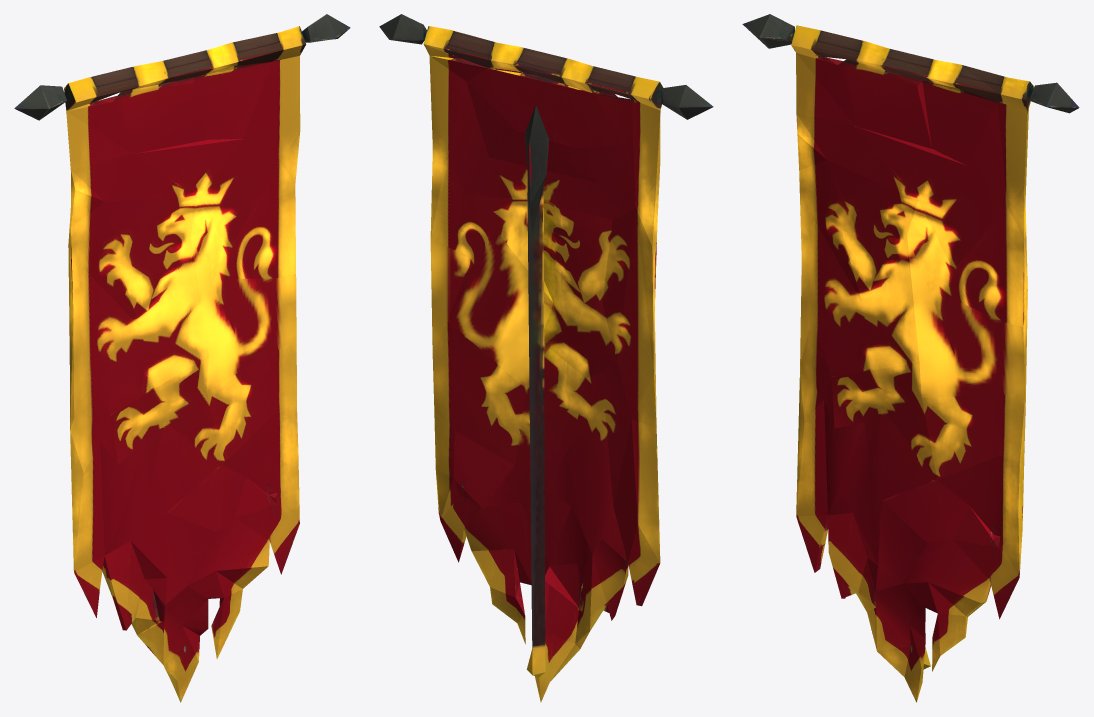
File: Meshy_AI_Tattered_Lion_Banner__1007141229_texture.fbx
3 renders of one model, left to right at view 1: azimuth 30°, elevation 25°; view 2: azimuth 150°, elevation 25°; view 3: azimuth 330°, elevation 25°, orthographic.
Parts seen in each view (by area): view 1: output_unwrapped; view 2: output_unwrapped; view 3: output_unwrapped.
Boxes of the visible parts, bbox=[...] form: output_unwrapped: bbox=[14, 14, 350, 702]; output_unwrapped: bbox=[379, 14, 713, 702]; output_unwrapped: bbox=[742, 14, 1079, 702].
Size of the model in its own units: 102 by 190 by 12.92.
1 material, 1 textured.
